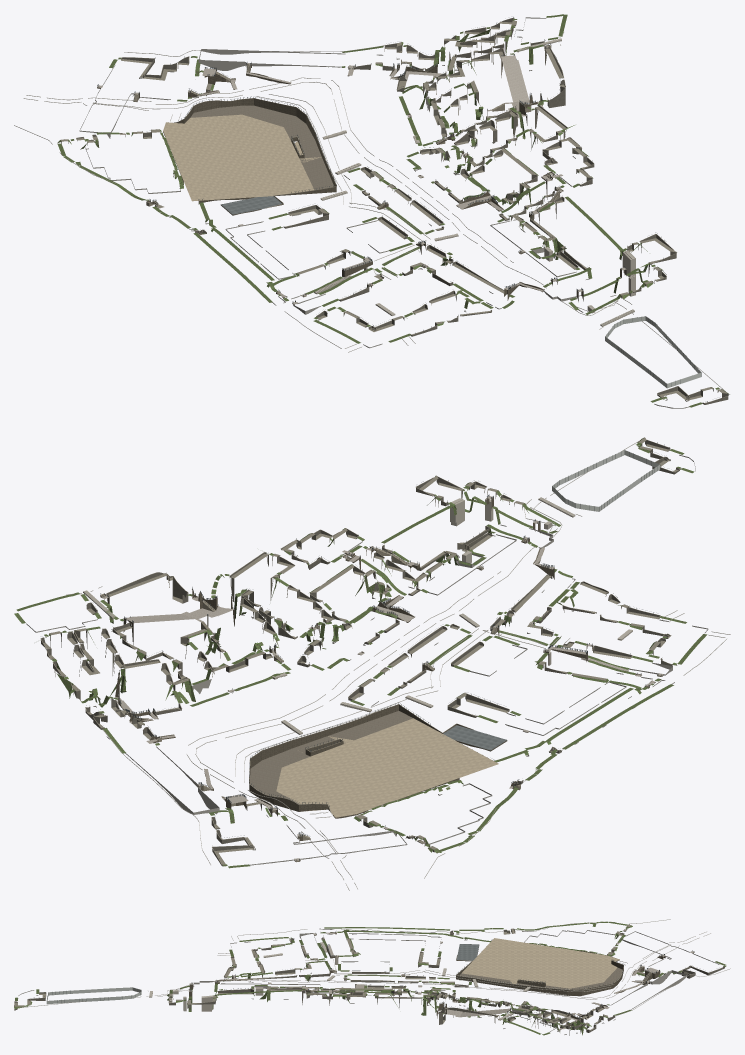
3 renders of one model, top to bottom at view 1: azimuth 30°, elevation 25°; view 2: azimuth 150°, elevation 25°; view 3: azimuth 270°, elevation 25°, orthographic. The views are drawn at different scales.
Visible parts, largest first — view 1: dirt, site-berm, apron-wall, apron-slab, wallGranite, site-concrete, site-curb, concrete, apron-coping, paving, site-cap, apron-bank (+4 smaller); view 2: dirt, site-berm, apron-wall, apron-slab, wallGranite, site-concrete, site-curb, apron-coping, concrete, paving, apron-bank, site-cap (+5 smaller); view 3: dirt, site-berm, apron-wall, site-curb, apron-slab, wallGranite, site-concrete, paving, apron-bank, apron-coping, site-hoarding, site-cap (+5 smaller).
Part boxes in pixels (bbox=[...]): dirt: bbox=[163, 114, 320, 201]; site-berm: bbox=[57, 14, 719, 407]; apron-wall: bbox=[61, 18, 728, 404]; apron-slab: bbox=[61, 20, 727, 403]; wallGranite: bbox=[97, 45, 626, 304]; site-concrete: bbox=[79, 17, 689, 408]; site-curb: bbox=[14, 32, 728, 394]; concrete: bbox=[190, 105, 333, 189]; apron-coping: bbox=[76, 17, 727, 403]; paving: bbox=[98, 46, 626, 304]; site-cap: bbox=[314, 38, 635, 326]; apron-bank: bbox=[57, 18, 729, 394]; dirt: bbox=[276, 718, 498, 817]; site-berm: bbox=[14, 444, 707, 868]; apron-wall: bbox=[41, 440, 679, 866]; apron-slab: bbox=[43, 437, 677, 864]; wallGranite: bbox=[100, 497, 663, 861]; site-concrete: bbox=[26, 454, 708, 865]; site-curb: bbox=[66, 440, 730, 890]; apron-coping: bbox=[40, 440, 679, 864]; concrete: bbox=[249, 711, 412, 804]; paving: bbox=[103, 496, 663, 860]; apron-bank: bbox=[40, 438, 655, 853]; site-cap: bbox=[83, 497, 632, 734]; dirt: bbox=[462, 938, 619, 988]; site-berm: bbox=[15, 921, 726, 1035]; apron-wall: bbox=[14, 927, 724, 1035]; site-curb: bbox=[19, 919, 730, 1023]; apron-slab: bbox=[14, 924, 722, 1030]; wallGranite: bbox=[189, 929, 694, 1030]; site-concrete: bbox=[18, 928, 719, 1034]; paving: bbox=[188, 932, 693, 1030]; apron-bank: bbox=[14, 924, 644, 1035]; apron-coping: bbox=[14, 929, 724, 1032]; site-hoarding: bbox=[46, 987, 141, 1004]; site-cap: bbox=[149, 942, 530, 1020].
Bounding box in the file's own units: 306 × 52.01 × 573.
19 materials, 12 textured.
